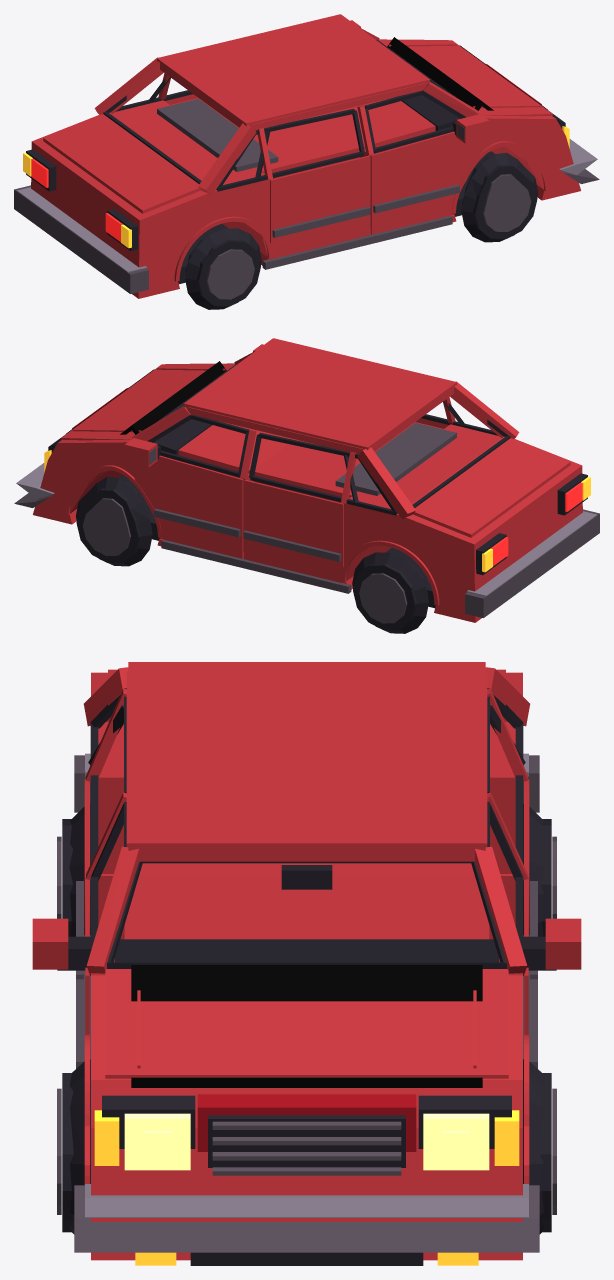
File: model.wrecked.lod1.glb
3 views of the same model, one above another, from view 1: azimuth 30°, elevation 25°; view 2: azimuth 150°, elevation 25°; view 3: azimuth 270°, elevation 25° (orthographic). The views are drawn at different scales.
Visible parts, largest first — view 1: body_pal_survivorRed, doorL_pal_survivorRed, body_pal_asphalt, doorRearL_pal_survivorRed, body_pal_uiDark, wheelFL_pal_uiDark, wheelRL_pal_uiDark, body_pal_sidewalk, wheelFL_pal_asphalt, doorRearL_pal_uiDark, wheelRL_pal_asphalt, buckledHood (+6 smaller); view 2: body_pal_survivorRed, doorR_pal_survivorRed, body_pal_asphalt, doorRearR_pal_survivorRed, body_pal_uiDark, wheelFR_pal_uiDark, wheelRR_pal_uiDark, body_pal_sidewalk, wheelFR_pal_asphalt, doorRearR_pal_uiDark, wheelRR_pal_asphalt, buckledHood (+6 smaller); view 3: body_pal_survivorRed, body_pal_uiDark, body_pal_asphalt, buckledHood, body_pal_sidewalk, lightsFront_emi_windowGlow, body_pal_blood, lightsFront_emi_schoolBusYellow, wheelFL_pal_uiDark, wheelFR_pal_uiDark, doorL_pal_survivorRed, doorR_pal_survivorRed (+8 smaller).
Part boxes in pixels (box(x1,y1,x2,y2)): body_pal_survivorRed: box(31, 14, 580, 298); doorL_pal_survivorRed: box(357, 105, 489, 234); body_pal_asphalt: box(14, 98, 599, 293); doorRearL_pal_survivorRed: box(257, 128, 369, 259); body_pal_uiDark: box(26, 39, 565, 284); wheelFL_pal_uiDark: box(461, 152, 538, 242); wheelRL_pal_uiDark: box(185, 228, 261, 309); body_pal_sidewalk: box(17, 139, 597, 272); wheelFL_pal_asphalt: box(483, 174, 531, 231); doorRearL_pal_uiDark: box(216, 108, 364, 191); wheelRL_pal_asphalt: box(206, 249, 254, 299); buckledHood: box(387, 37, 547, 110); body_pal_survivorRed: box(33, 338, 582, 622); doorR_pal_survivorRed: box(124, 429, 256, 558); body_pal_asphalt: box(14, 422, 599, 617); doorRearR_pal_survivorRed: box(244, 452, 356, 583); body_pal_uiDark: box(48, 363, 587, 608); wheelFR_pal_uiDark: box(75, 476, 152, 566); wheelRR_pal_uiDark: box(352, 552, 428, 633); body_pal_sidewalk: box(16, 463, 596, 596); wheelFR_pal_asphalt: box(82, 498, 130, 555); doorRearR_pal_uiDark: box(249, 432, 397, 515); wheelRR_pal_asphalt: box(359, 573, 407, 623); buckledHood: box(66, 361, 226, 434); body_pal_survivorRed: box(83, 662, 530, 1260); body_pal_uiDark: box(102, 861, 511, 1265); body_pal_asphalt: box(74, 755, 539, 1252); buckledHood: box(131, 965, 482, 1087); body_pal_sidewalk: box(85, 753, 528, 1217); lightsFront_emi_windowGlow: box(124, 1113, 489, 1170); body_pal_blood: box(197, 1094, 416, 1151); lightsFront_emi_schoolBusYellow: box(94, 1110, 519, 1265); wheelFL_pal_uiDark: box(62, 1059, 90, 1234); wheelFR_pal_uiDark: box(523, 1059, 551, 1234); doorL_pal_survivorRed: box(32, 792, 126, 1034); doorR_pal_survivorRed: box(487, 792, 581, 1034).
Bounding box in the file's own units: 4.53 × 1.57 × 2.29.
